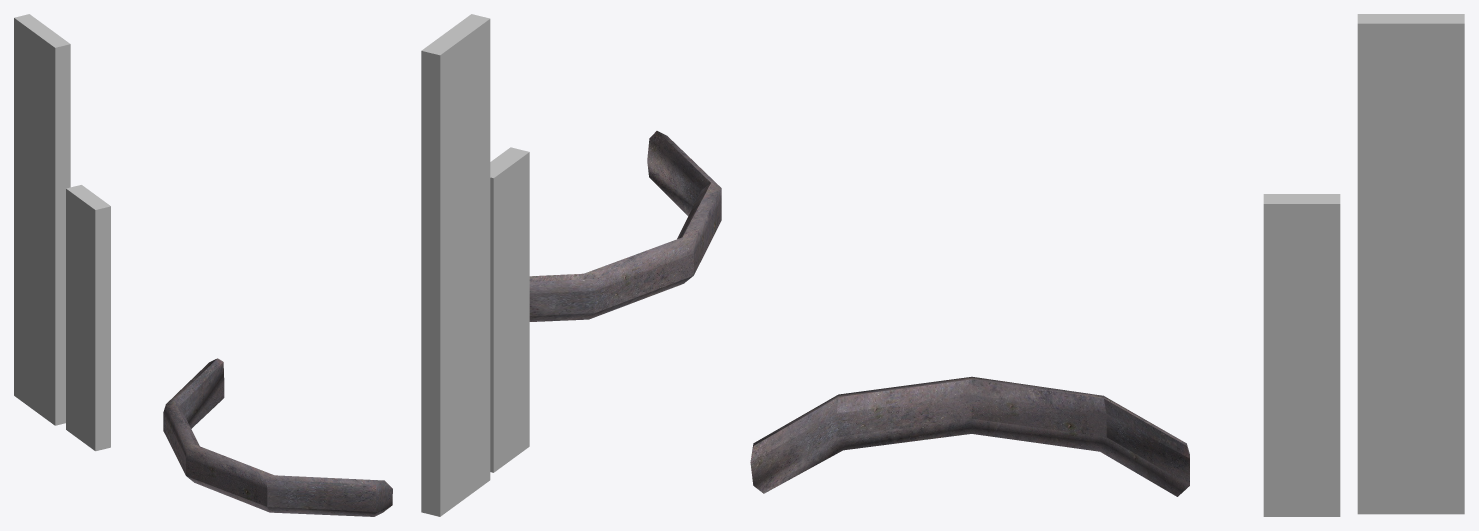
File: Barrel_Destroyed.FBX
The picture shows the model from 3 angles, left to right: view 1: azimuth 30°, elevation 25°; view 2: azimuth 150°, elevation 25°; view 3: azimuth 270°, elevation 25°; orthographic projection. The views are drawn at different scales.
Parts seen in each view (by area): view 1: Box001, Box002, ChamferCyl002; view 2: Box001, ChamferCyl002, Box002; view 3: Box001, Box002, ChamferCyl002.
Boxes of the visible parts, x1,y1,x2,y2 form: Box001: (14, 14, 70, 425); Box002: (66, 185, 110, 451); ChamferCyl002: (163, 358, 392, 516); Box001: (421, 14, 490, 516); ChamferCyl002: (529, 131, 721, 321); Box002: (490, 147, 529, 472); Box001: (1357, 14, 1464, 514); Box002: (1263, 194, 1340, 516); ChamferCyl002: (750, 376, 1189, 496).
Size of the model in its own units: 0.6918 by 2.04 by 2.69.
